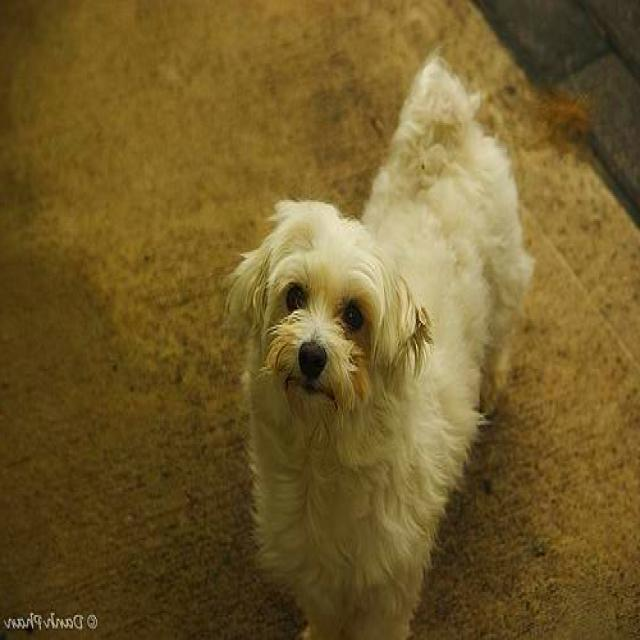maltese_dog: (224, 50, 539, 638)
